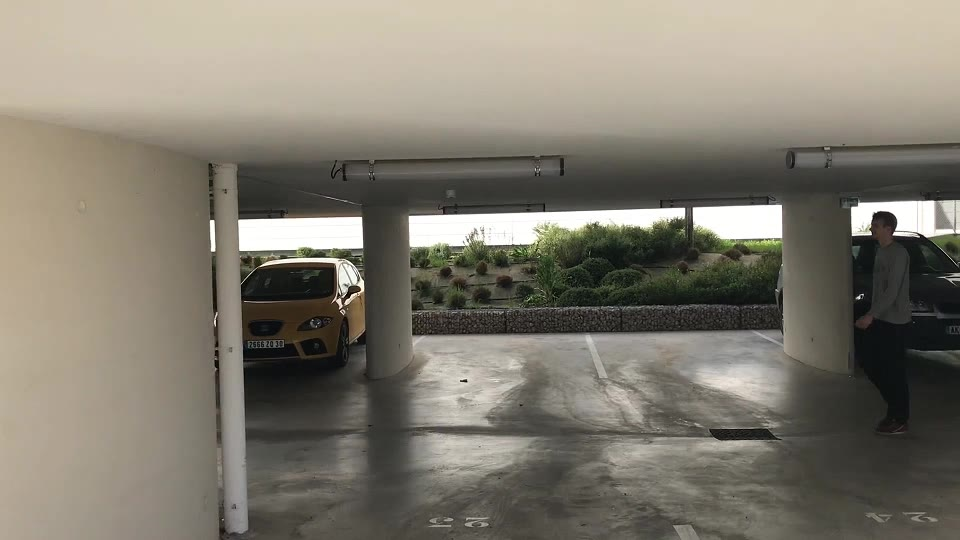jugador: (838, 210, 929, 438)
